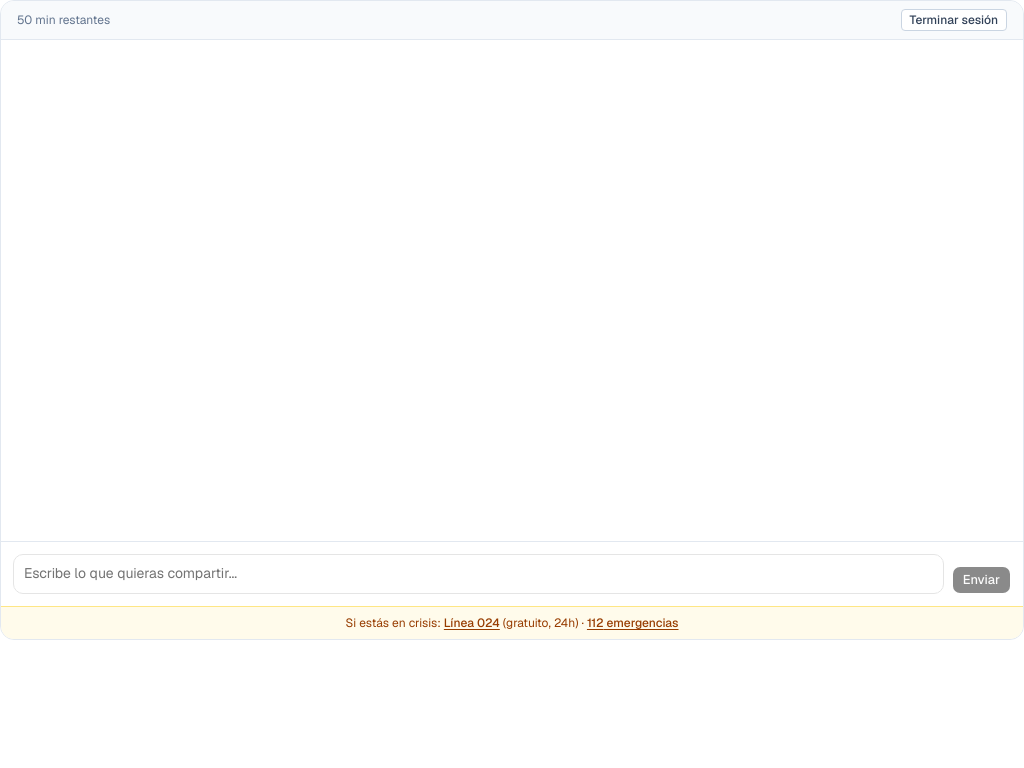
Test case: keeps conversation usable after confirm_close_session returns closed:false
Type "Sí, cerramos" into the text box at (478, 574), box [13,554,944,594]
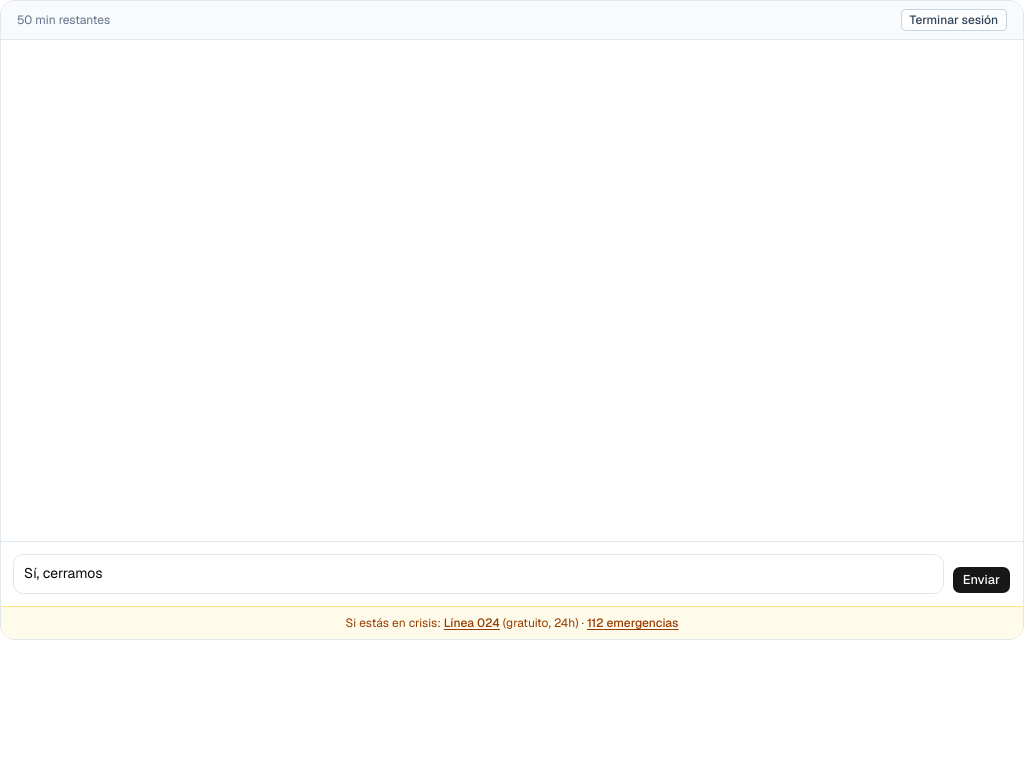
Expected: the button "Enviar" is enabled, [952,566,1011,594]
